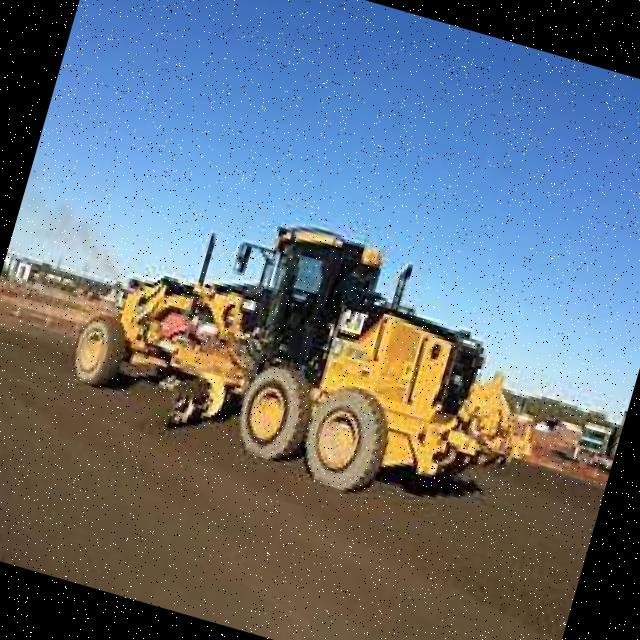Grader: (22, 153, 574, 556)
